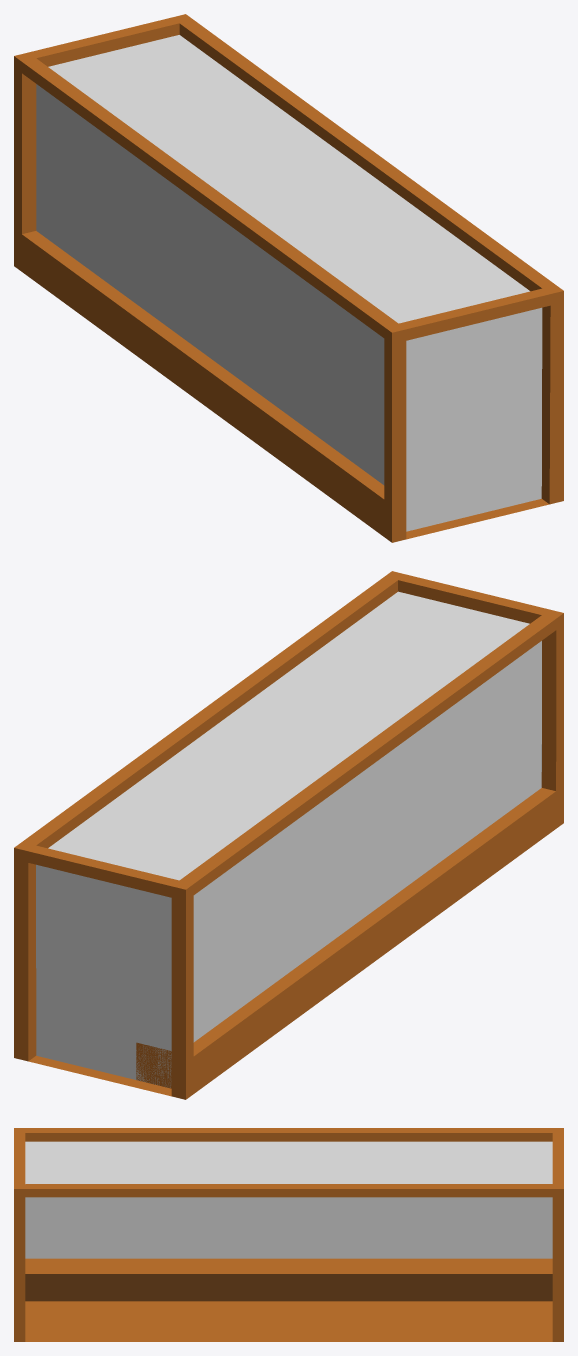
Rendered from greenhouse.fbx.
The picture shows the model from 3 angles, top to bottom: view 1: azimuth 30°, elevation 25°; view 2: azimuth 150°, elevation 25°; view 3: azimuth 270°, elevation 25°; orthographic projection. The views are drawn at different scales.
Parts seen in each view (by area): view 1: Plane; view 2: Plane; view 3: Plane.
Part boxes in pixels (box(x1,y1,x2,y2)): Plane: box(14, 14, 563, 542); Plane: box(14, 571, 563, 1099); Plane: box(14, 1128, 563, 1341).
Bounding box in the file's own units: 464 × 542 × 1766.
